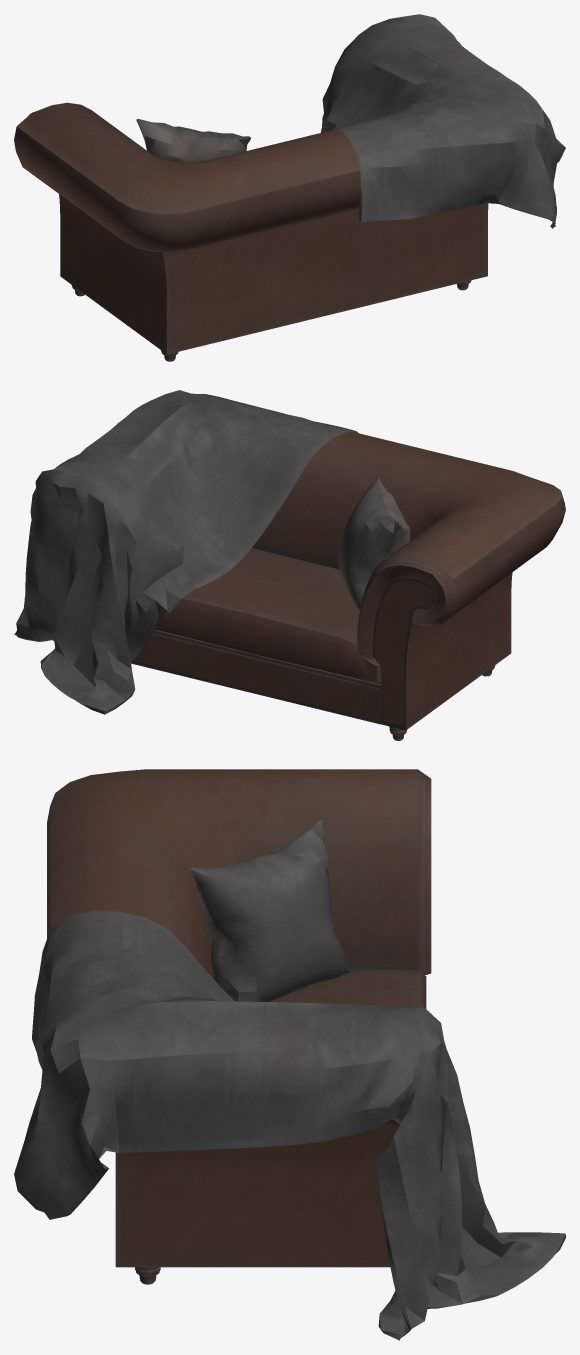
Rendered from settee-leather-throw.glb.
The picture shows the model from 3 angles, top to bottom: view 1: azimuth 30°, elevation 25°; view 2: azimuth 150°, elevation 25°; view 3: azimuth 270°, elevation 25°; orthographic projection. The views are drawn at different scales.
Visible parts, largest first — view 1: settee-leather-throw; view 2: settee-leather-throw; view 3: settee-leather-throw.
Part boxes in pixels (left/top/right/bottom): settee-leather-throw: left=14, top=14, right=565, bottom=361; settee-leather-throw: left=14, top=390, right=565, bottom=740; settee-leather-throw: left=14, top=769, right=565, bottom=1340.
Bounding box in the file's own units: 1.83 × 0.7673 × 1.33.
2 materials, 2 textured.
